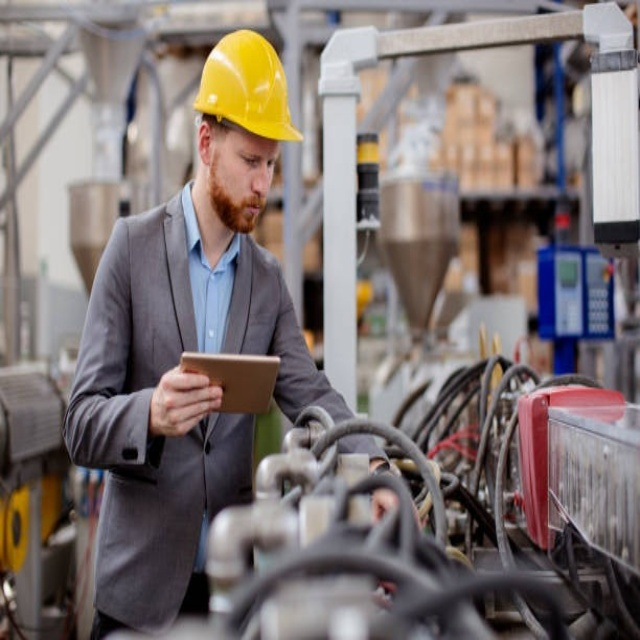Sin_gafas: (224, 138, 280, 177)
Sin_guantes: (151, 364, 222, 436)
Sin_mascara: (227, 198, 269, 234)
